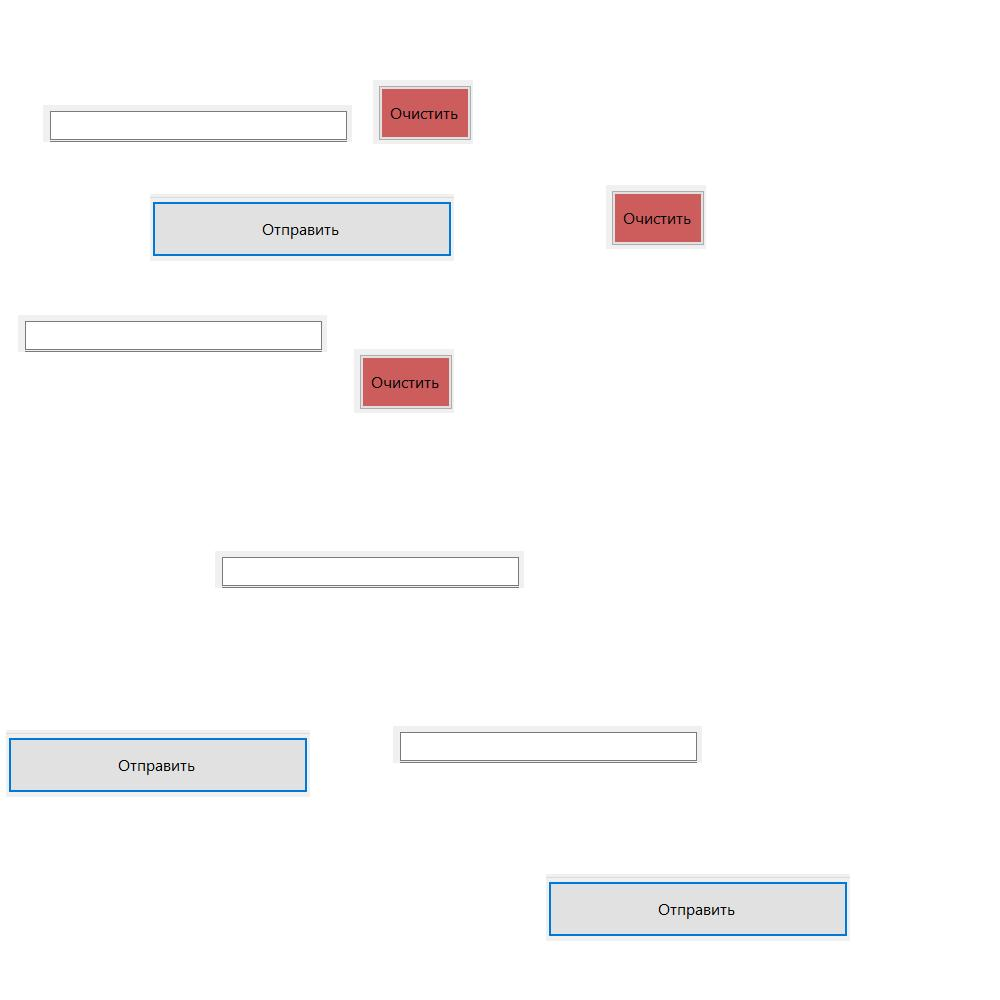Button: (546, 874, 850, 941), (150, 194, 454, 261), (6, 730, 310, 797), (373, 80, 473, 144), (354, 349, 454, 413), (606, 185, 706, 249)
EditText-: (215, 551, 524, 588), (393, 726, 702, 763), (18, 315, 327, 352), (43, 105, 352, 142)
